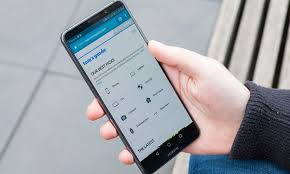huawei: (60, 1, 205, 174)
